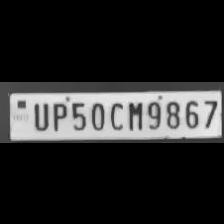0: (88, 98, 106, 130)
5: (67, 98, 87, 130)
6: (182, 97, 200, 128)
7: (201, 96, 219, 128)
8: (163, 97, 181, 128)
9: (144, 98, 162, 128)
C: (106, 99, 124, 129)
M: (124, 98, 144, 130)
P: (49, 99, 67, 130)
U: (29, 99, 49, 130)
